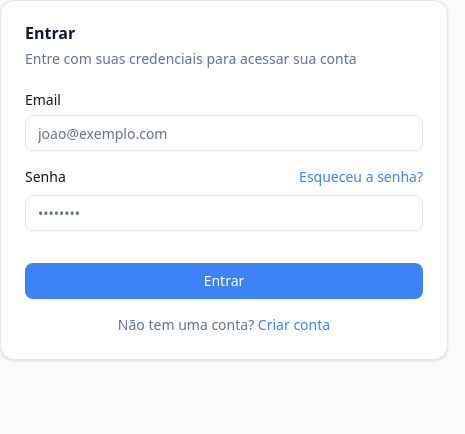
it: SignInForm › deve validar campos obrigatórios
What coordinates should you click on to do the following:
click the button "Entrar"
I would click on:
 (224, 281)
Its box is [25, 263, 423, 299].
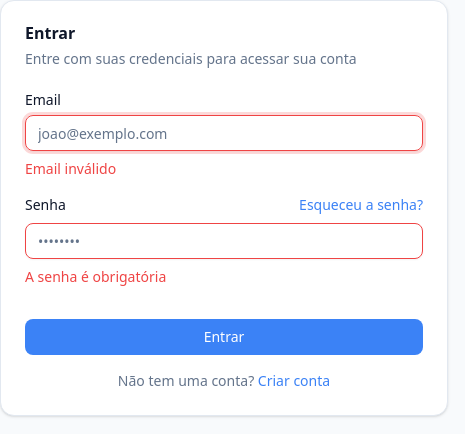
Check: the text "Email inválido" is shown, box [25, 159, 116, 178]
